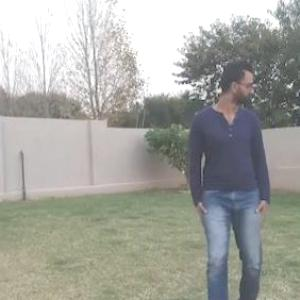follow: (179, 35, 281, 299)
